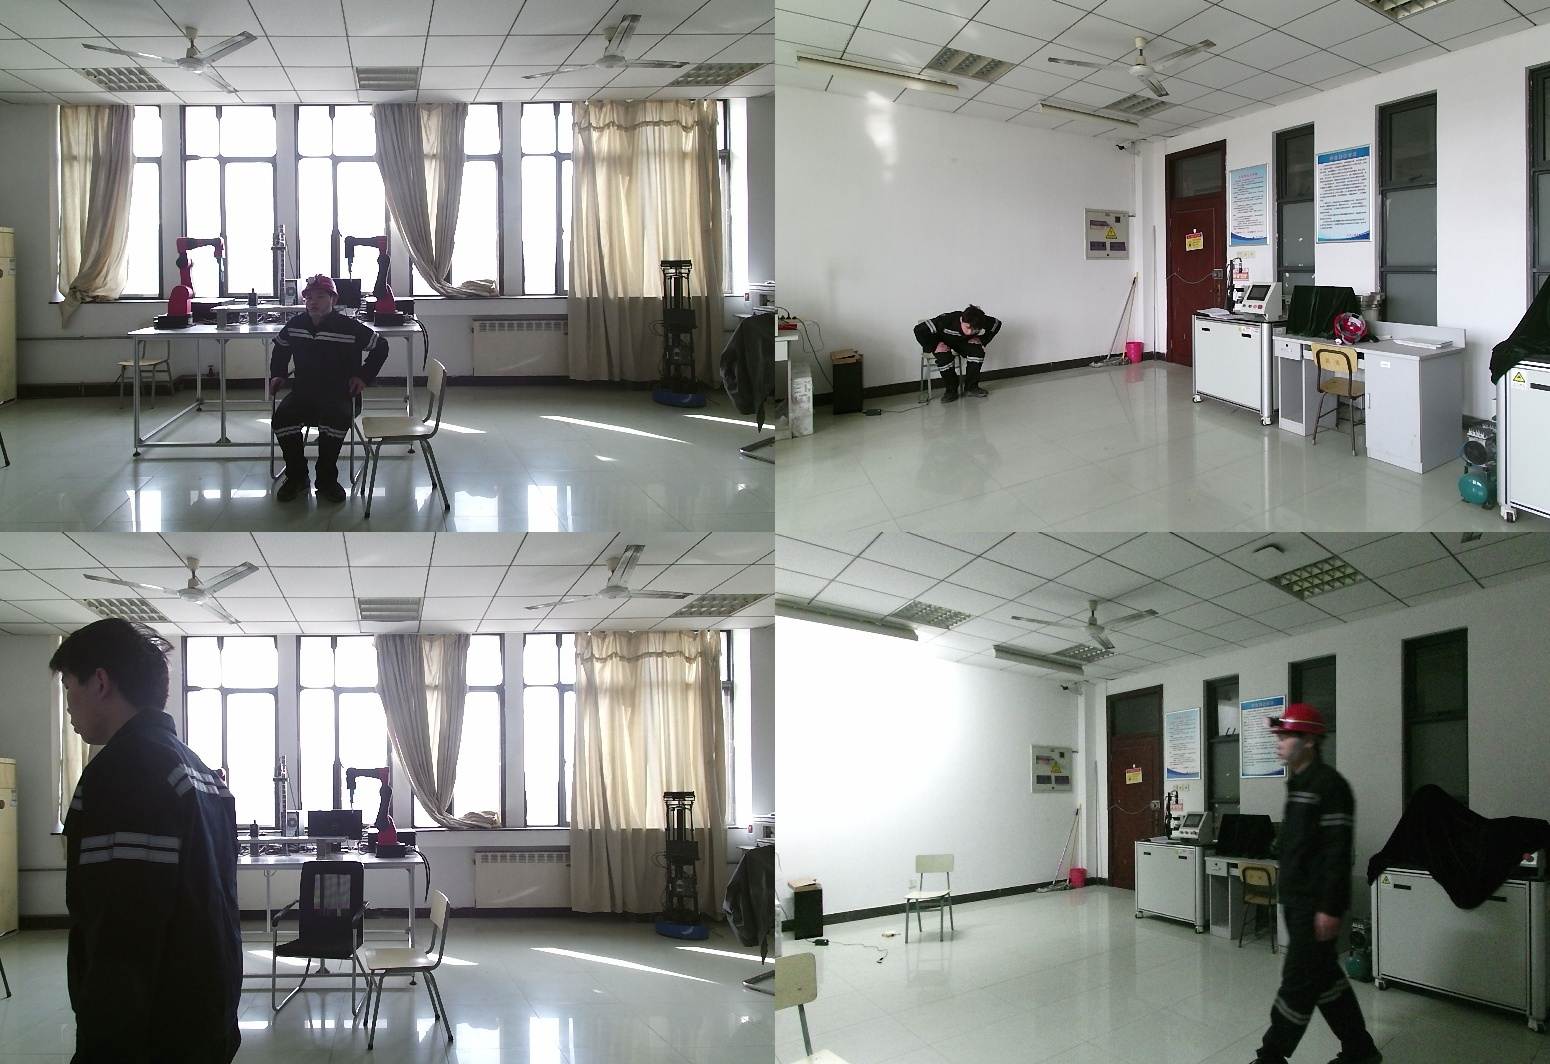person: (44, 617, 254, 1064), (1262, 701, 1388, 1064), (268, 276, 395, 503), (913, 309, 1000, 407)
